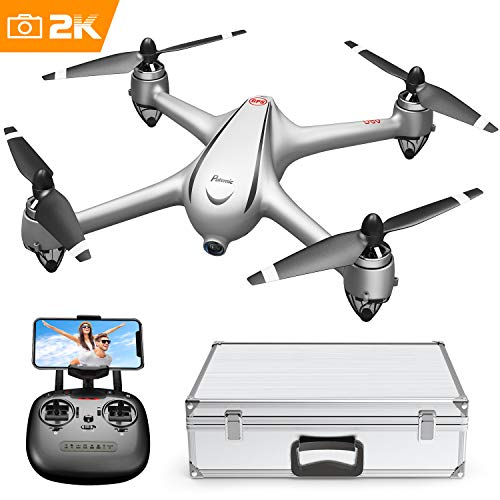drone: (1, 27, 495, 323)
